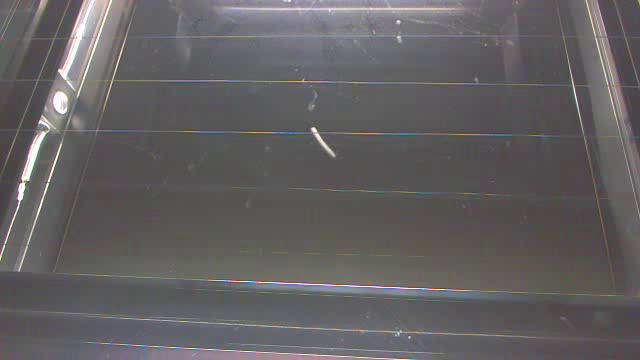alpha: (310, 124, 338, 161)
